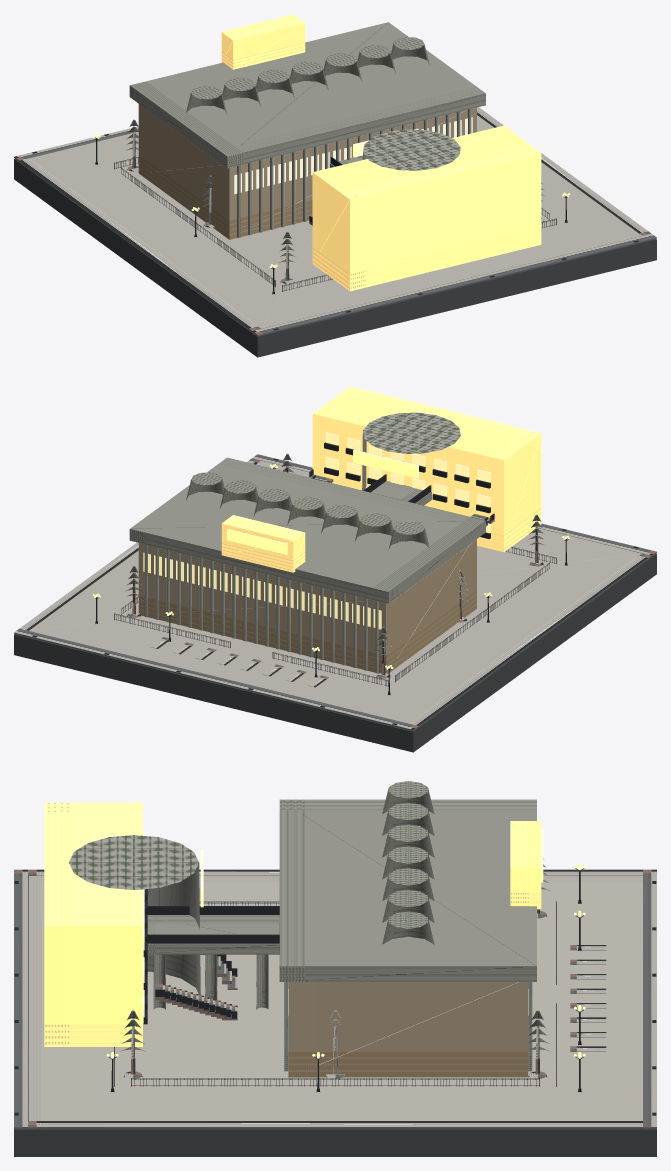
Rendered from ultra_lm_05_cho_da_lat_hoa_binh.glb.
3 renders of one model, top to bottom at view 1: azimuth 30°, elevation 25°; view 2: azimuth 150°, elevation 25°; view 3: azimuth 270°, elevation 25°, orthographic. The views are drawn at different scales.
Parts seen in each view (by area): view 1: Mesh_ChoDaLat_YStair_WormBrick_And_ZebraCrosswalk, Mesh_ChoDaLat_Viaduct_And_FoldedVault_Concrete, Mesh_KhuHoaBinh_Retro_Embossed_3D_Signage_Rotunda, Mesh_ChoDaLat_Copernicus_Minus3p5m_SplitStone_Skirt, Mesh_ChoDaLat_Modernist_BriseSoleil_Louver_Halls, Mesh_ChoDaLat_BridgeRailing_5GlobeLamps_And_DrainGrates, Mesh_ChoDaLat_Clerestory_And_HoaBinh_Glass_Blend085; view 2: Mesh_ChoDaLat_YStair_WormBrick_And_ZebraCrosswalk, Mesh_ChoDaLat_Viaduct_And_FoldedVault_Concrete, Mesh_KhuHoaBinh_Retro_Embossed_3D_Signage_Rotunda, Mesh_ChoDaLat_Modernist_BriseSoleil_Louver_Halls, Mesh_ChoDaLat_Copernicus_Minus3p5m_SplitStone_Skirt, Mesh_ChoDaLat_Clerestory_And_HoaBinh_Glass_Blend085, Mesh_ChoDaLat_BridgeRailing_5GlobeLamps_And_DrainGrates, Mesh_ChoDaLat_NightMarket_And_VintageSignage_WarmLED; view 3: Mesh_ChoDaLat_YStair_WormBrick_And_ZebraCrosswalk, Mesh_ChoDaLat_Viaduct_And_FoldedVault_Concrete, Mesh_KhuHoaBinh_Retro_Embossed_3D_Signage_Rotunda, Mesh_ChoDaLat_Modernist_BriseSoleil_Louver_Halls, Mesh_ChoDaLat_Copernicus_Minus3p5m_SplitStone_Skirt, Mesh_ChoDaLat_BridgeRailing_5GlobeLamps_And_DrainGrates, Mesh_ChoDaLat_NightMarket_And_VintageSignage_WarmLED.
Part boxes in pixels (x1,y1,x2,y2): Mesh_ChoDaLat_YStair_WormBrick_And_ZebraCrosswalk: (14,107,656,335); Mesh_ChoDaLat_Viaduct_And_FoldedVault_Concrete: (126,22,545,262); Mesh_KhuHoaBinh_Retro_Embossed_3D_Signage_Rotunda: (221,14,541,291); Mesh_ChoDaLat_Copernicus_Minus3p5m_SplitStone_Skirt: (14,158,656,357); Mesh_ChoDaLat_Modernist_BriseSoleil_Louver_Halls: (138,104,476,239); Mesh_ChoDaLat_BridgeRailing_5GlobeLamps_And_DrainGrates: (32,134,638,330); Mesh_ChoDaLat_Clerestory_And_HoaBinh_Glass_Blend085: (234,117,472,193); Mesh_ChoDaLat_YStair_WormBrick_And_ZebraCrosswalk: (14,454,656,730); Mesh_ChoDaLat_Viaduct_And_FoldedVault_Concrete: (125,412,545,673); Mesh_KhuHoaBinh_Retro_Embossed_3D_Signage_Rotunda: (221,386,541,572); Mesh_ChoDaLat_Modernist_BriseSoleil_Louver_Halls: (138,539,476,673); Mesh_ChoDaLat_Copernicus_Minus3p5m_SplitStone_Skirt: (14,553,656,752); Mesh_ChoDaLat_Clerestory_And_HoaBinh_Glass_Blend085: (143,432,490,629); Mesh_ChoDaLat_BridgeRailing_5GlobeLamps_And_DrainGrates: (32,442,638,725); Mesh_ChoDaLat_NightMarket_And_VintageSignage_WarmLED: (92,449,570,669); Mesh_ChoDaLat_YStair_WormBrick_And_ZebraCrosswalk: (14,869,656,1128); Mesh_ChoDaLat_Viaduct_And_FoldedVault_Concrete: (69,781,550,1071); Mesh_KhuHoaBinh_Retro_Embossed_3D_Signage_Rotunda: (44,802,541,1046); Mesh_ChoDaLat_Modernist_BriseSoleil_Louver_Halls: (288,982,528,1077); Mesh_ChoDaLat_Copernicus_Minus3p5m_SplitStone_Skirt: (14,1128,656,1156); Mesh_ChoDaLat_BridgeRailing_5GlobeLamps_And_DrainGrates: (14,868,656,1115); Mesh_ChoDaLat_NightMarket_And_VintageSignage_WarmLED: (106,830,585,1058).
Size of the model in its own units: 71 by 23.7 by 75.
Materials: 8 (4 with a texture image).
